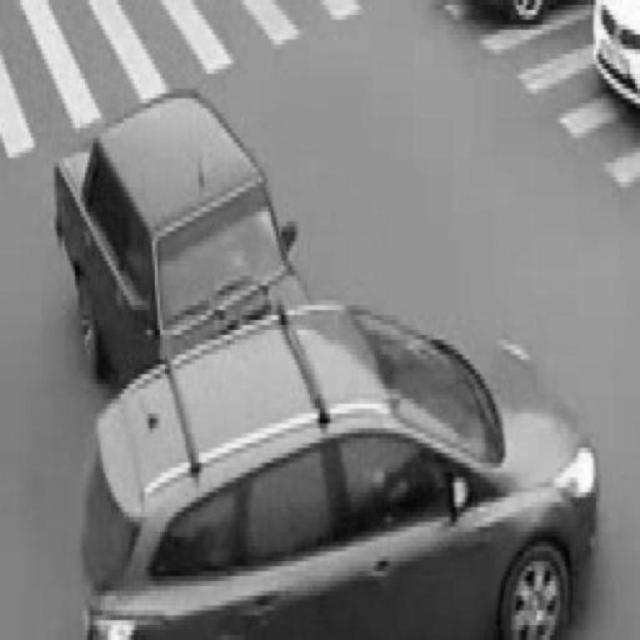accident: (51, 84, 602, 630)
